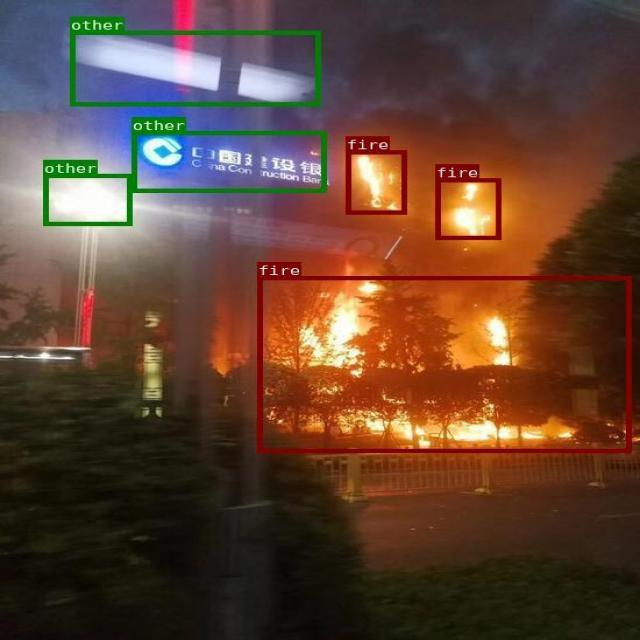fire: (257, 275, 631, 452), (434, 178, 500, 239), (346, 150, 406, 214)
